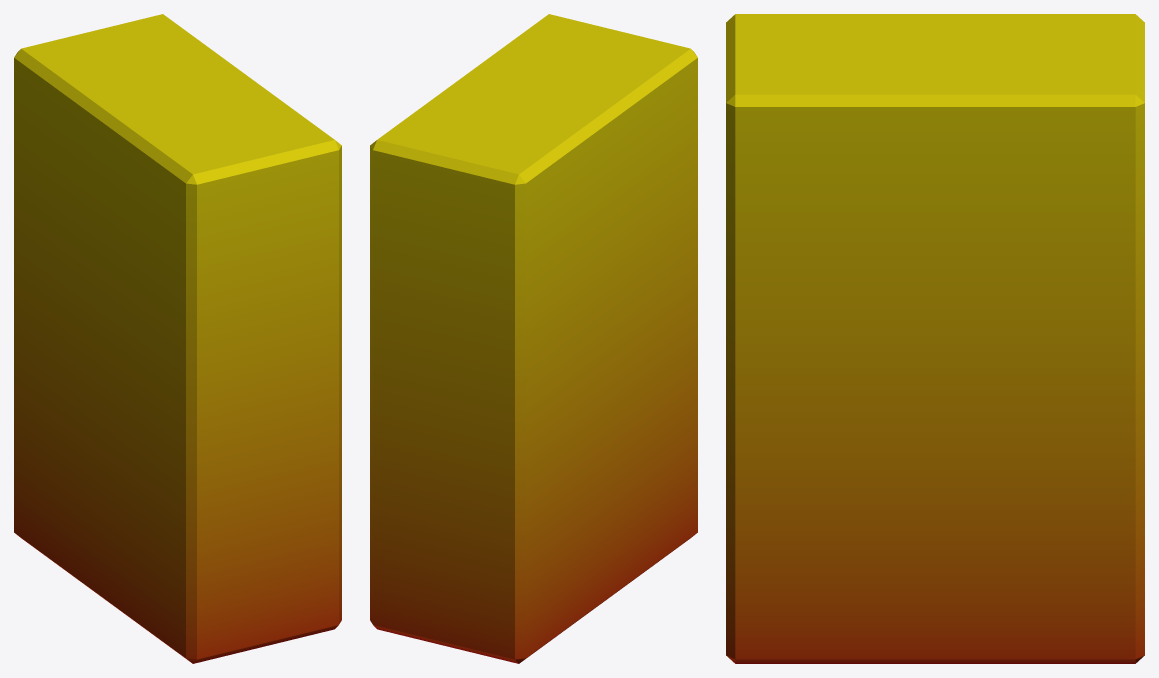
The model's file is bridge_pier.glb.
3 renders of one model, left to right at view 1: azimuth 30°, elevation 25°; view 2: azimuth 150°, elevation 25°; view 3: azimuth 270°, elevation 25°, orthographic. The views are drawn at different scales.
Visible parts, largest first — view 1: bridge_pier; view 2: bridge_pier; view 3: bridge_pier.
Boxes of the visible parts, left/top/right/bottom form: bridge_pier: left=14, top=14, right=341, bottom=663; bridge_pier: left=370, top=14, right=697, bottom=663; bridge_pier: left=726, top=14, right=1144, bottom=663.
Size of what is drawn, in the model's own units: 2 by 6 by 4.
